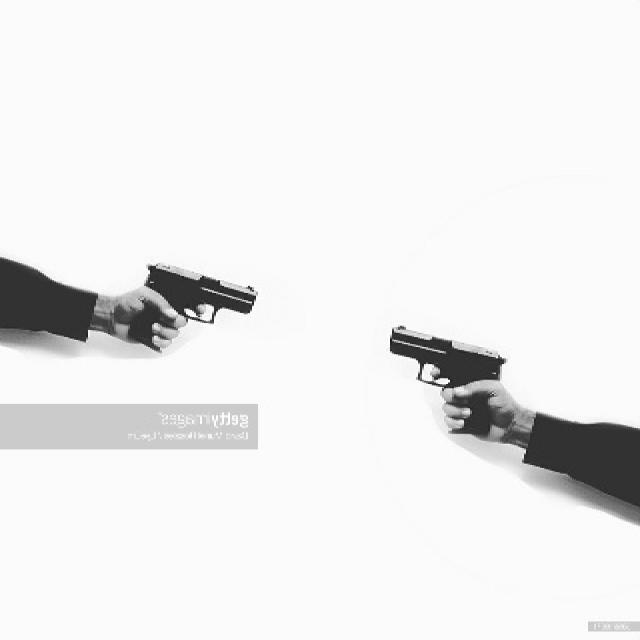gun: (388, 313, 524, 438), (124, 252, 266, 347)
